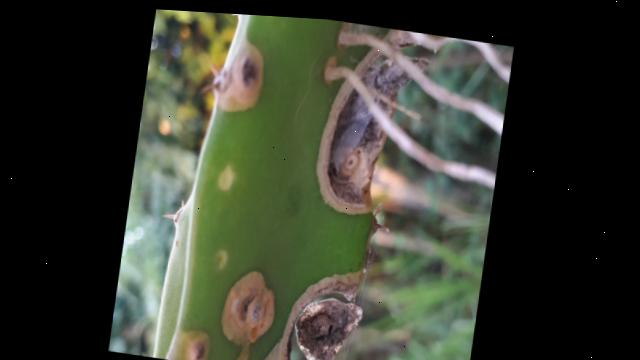stemcanker: (318, 51, 403, 217), (294, 277, 364, 360), (210, 269, 278, 342), (212, 43, 278, 115)
